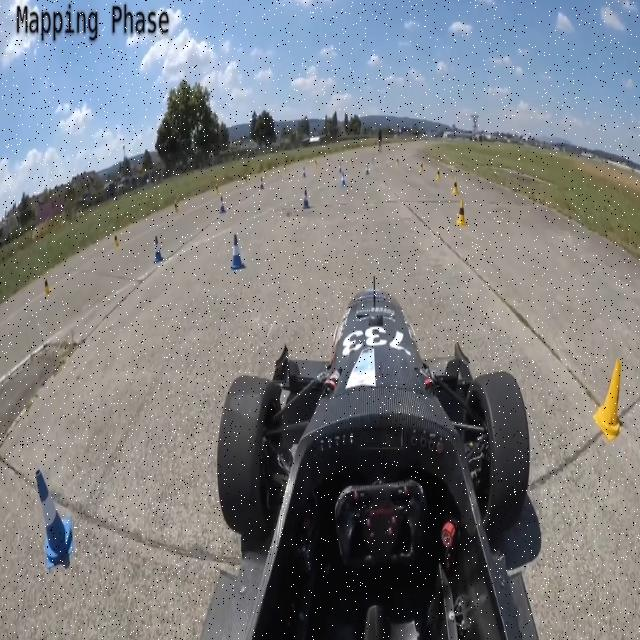blue_cone: (36, 469, 74, 569), (231, 233, 245, 270), (154, 234, 164, 264), (303, 188, 310, 209), (220, 196, 226, 213)
yellow_cone: (594, 359, 622, 442), (456, 200, 468, 228), (452, 177, 459, 195)
